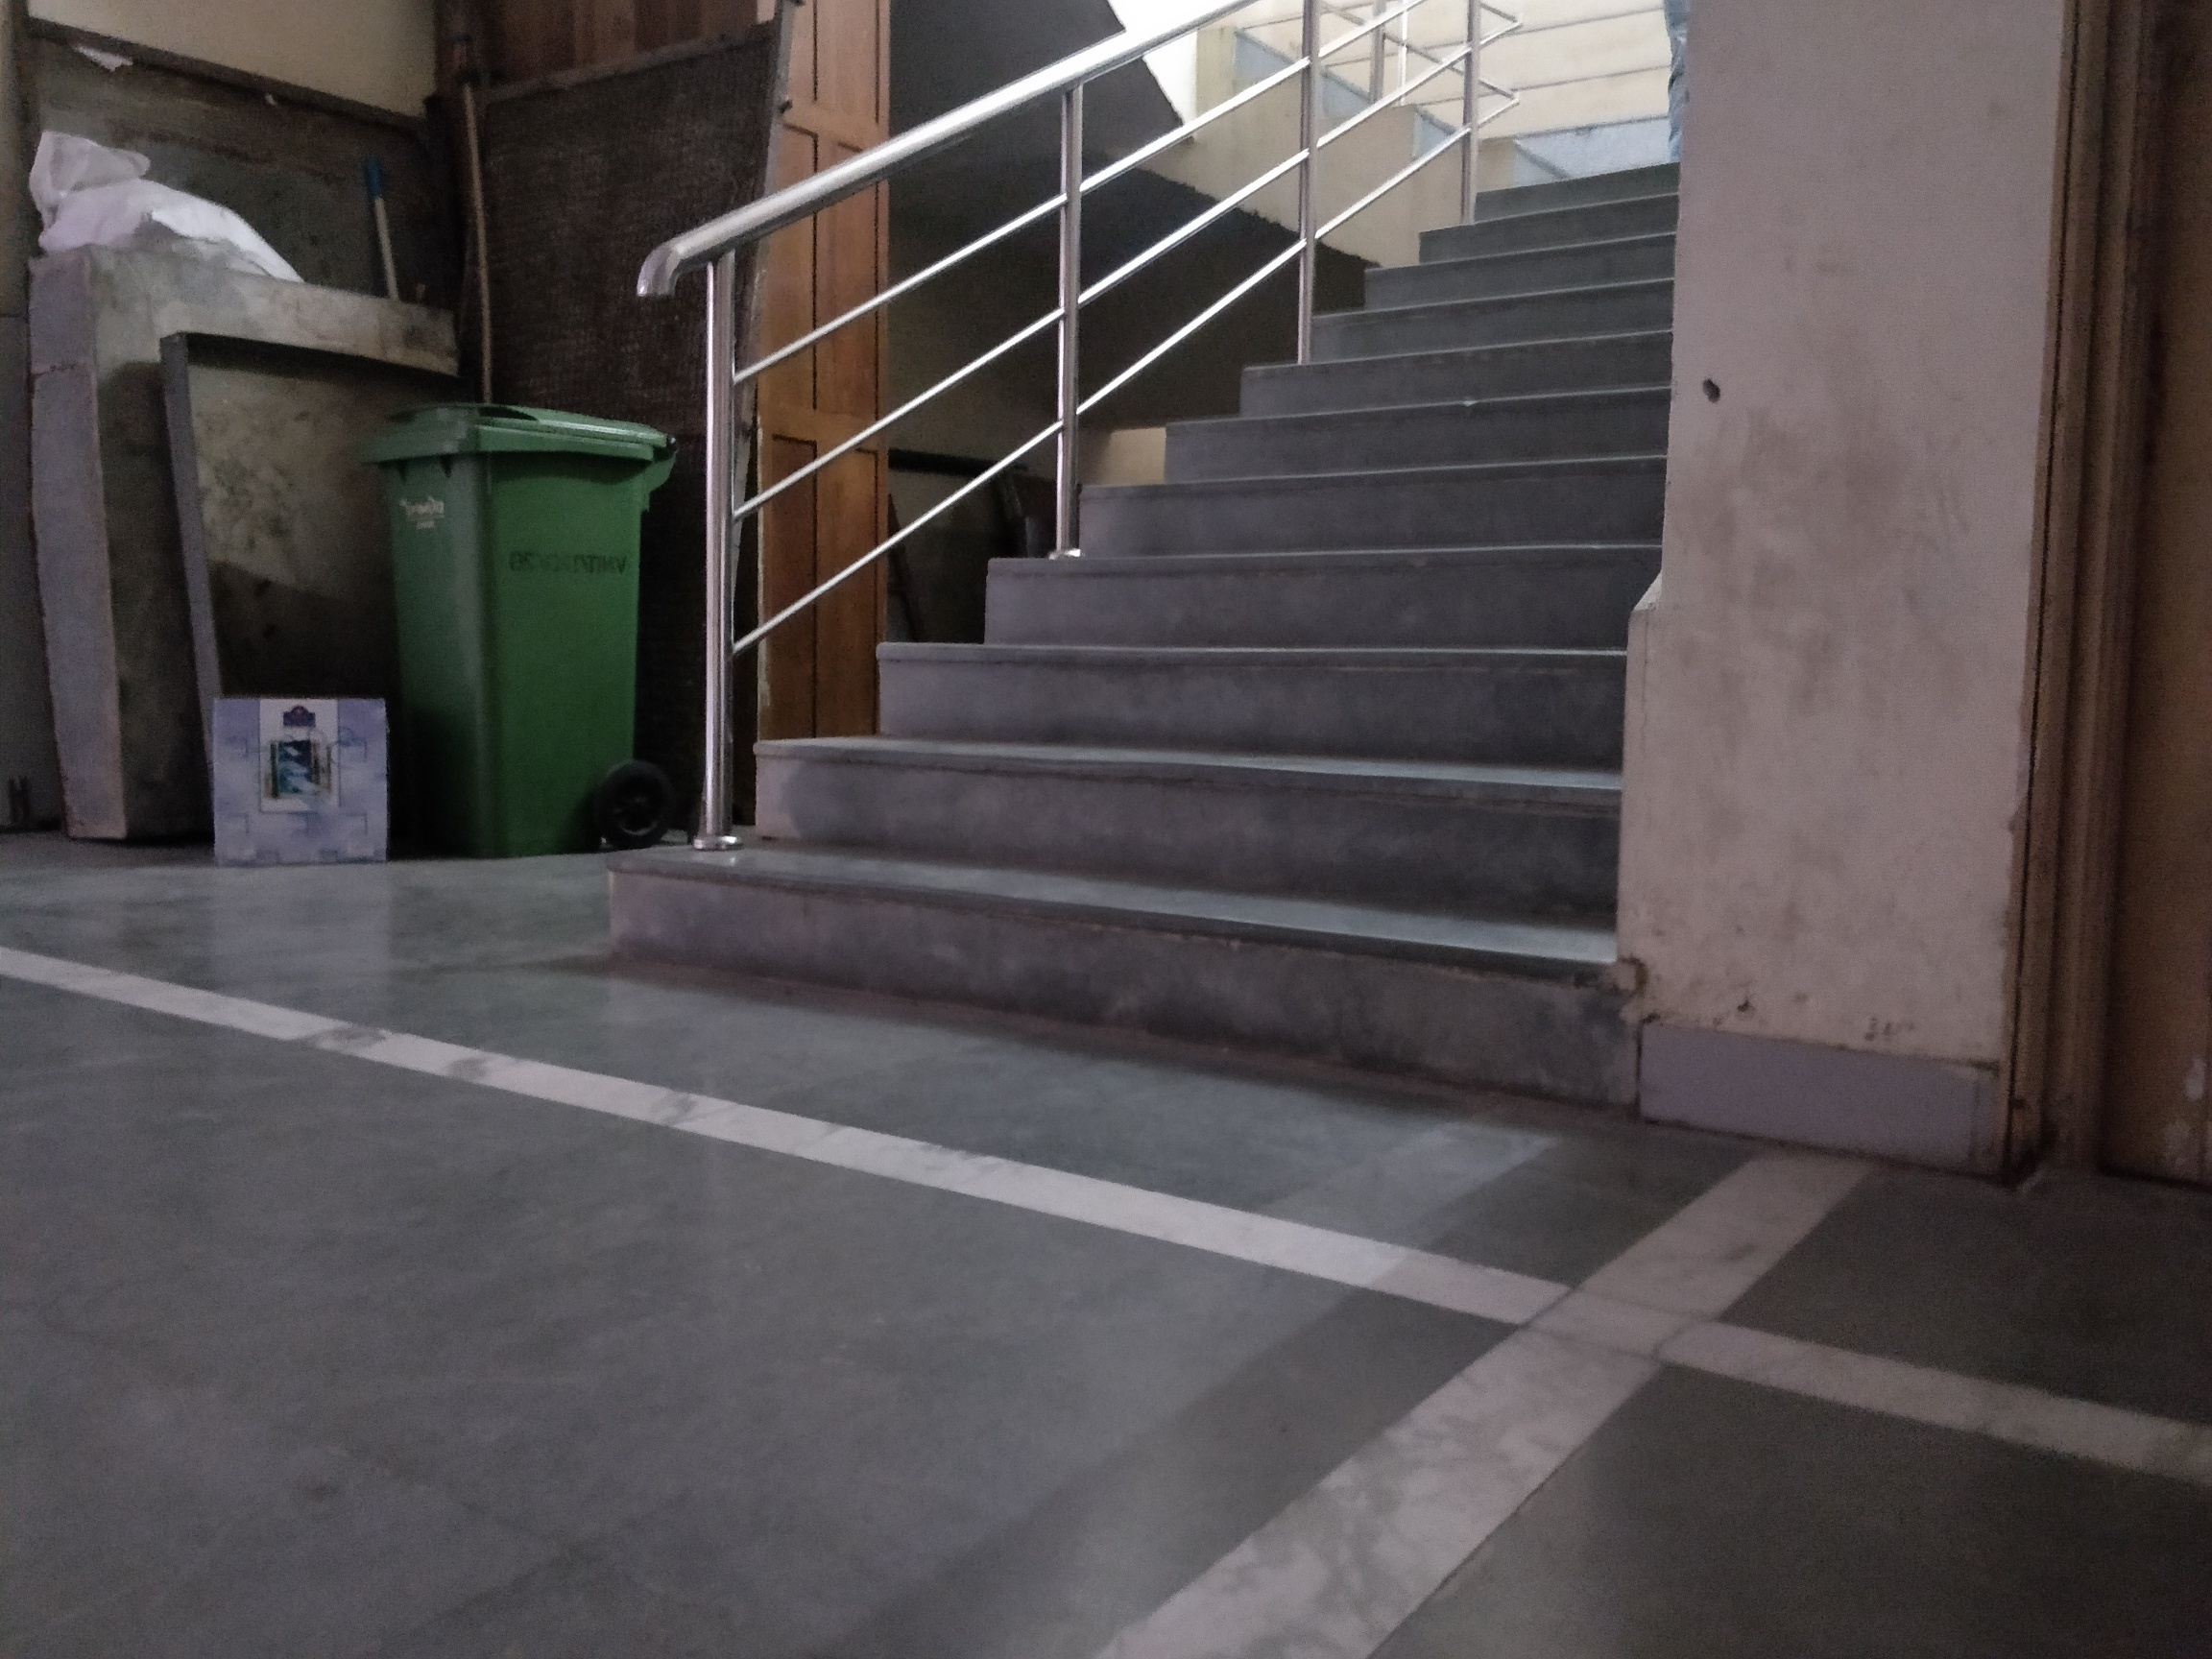stairs_up: (669, 145, 1663, 1108)
